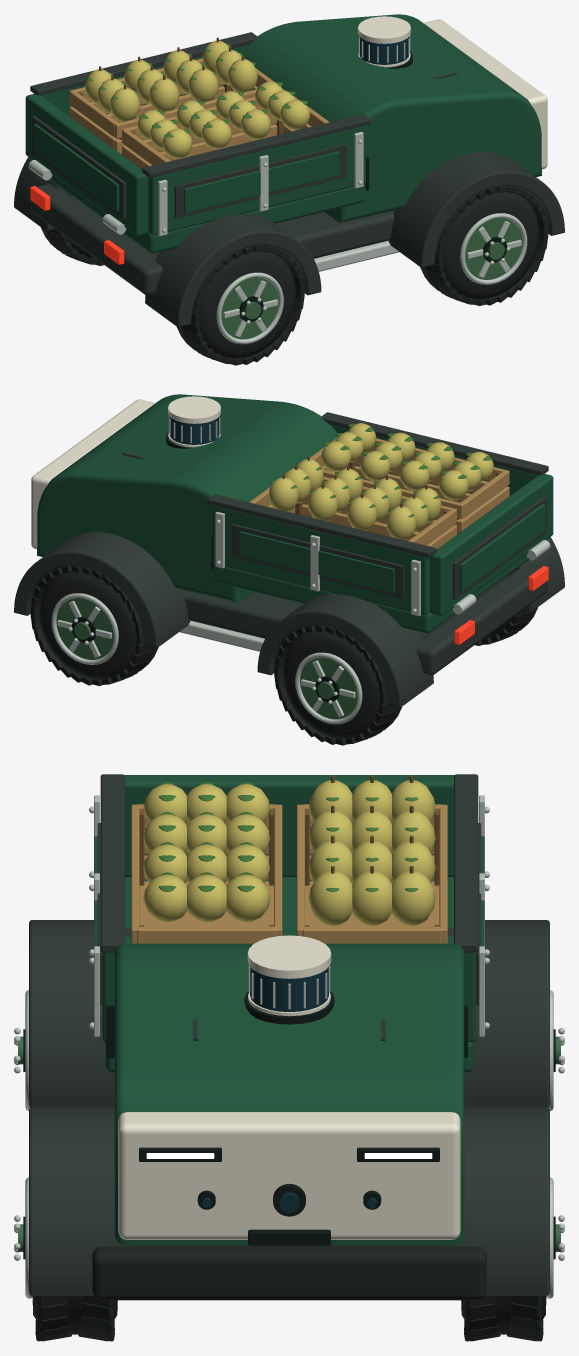
Rendered from transport-rover-v1.glb.
3 renders of one model, top to bottom at view 1: azimuth 30°, elevation 25°; view 2: azimuth 150°, elevation 25°; view 3: azimuth 270°, elevation 25°, orthographic. The views are drawn at different scales.
Parts seen in each view (by area): view 1: sprung-body, task-cargo, rear-drive-wheel, front-steering-wheel, tire-tread (×3); view 2: sprung-body, task-cargo, rear-drive-wheel, front-steering-wheel, tire-tread (×3); view 3: sprung-body, task-cargo, tire-tread (×2), front-steering-wheel (×2), rear-drive-wheel (×2).
Part boxes in pixels (box(x1,y1,x2,y2)): sprung-body: box(14, 14, 564, 326); task-cargo: box(69, 37, 329, 169); rear-drive-wheel: box(198, 251, 295, 358); front-steering-wheel: box(442, 191, 539, 299); tire-tread (×3): box(41, 186, 548, 365); sprung-body: box(14, 394, 564, 706); task-cargo: box(249, 423, 509, 549); rear-drive-wheel: box(283, 631, 380, 738); front-steering-wheel: box(39, 571, 136, 679); tire-tread (×3): box(30, 566, 537, 745); sprung-body: box(29, 774, 549, 1300); task-cargo: box(131, 775, 447, 943); tire-tread (×2): box(35, 1296, 543, 1341); front-steering-wheel (×2): box(14, 1177, 564, 1334); rear-drive-wheel (×2): box(14, 990, 564, 1110).
Bounding box in the file's own units: 2.08 × 1.04 × 1.47.
